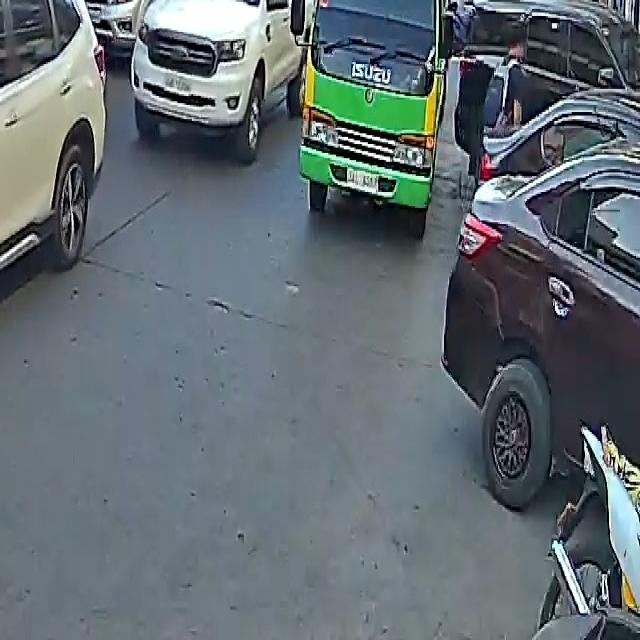car: (441, 87, 640, 514), (0, 0, 112, 398), (454, 0, 640, 167), (129, 0, 306, 158), (76, 0, 194, 50)
